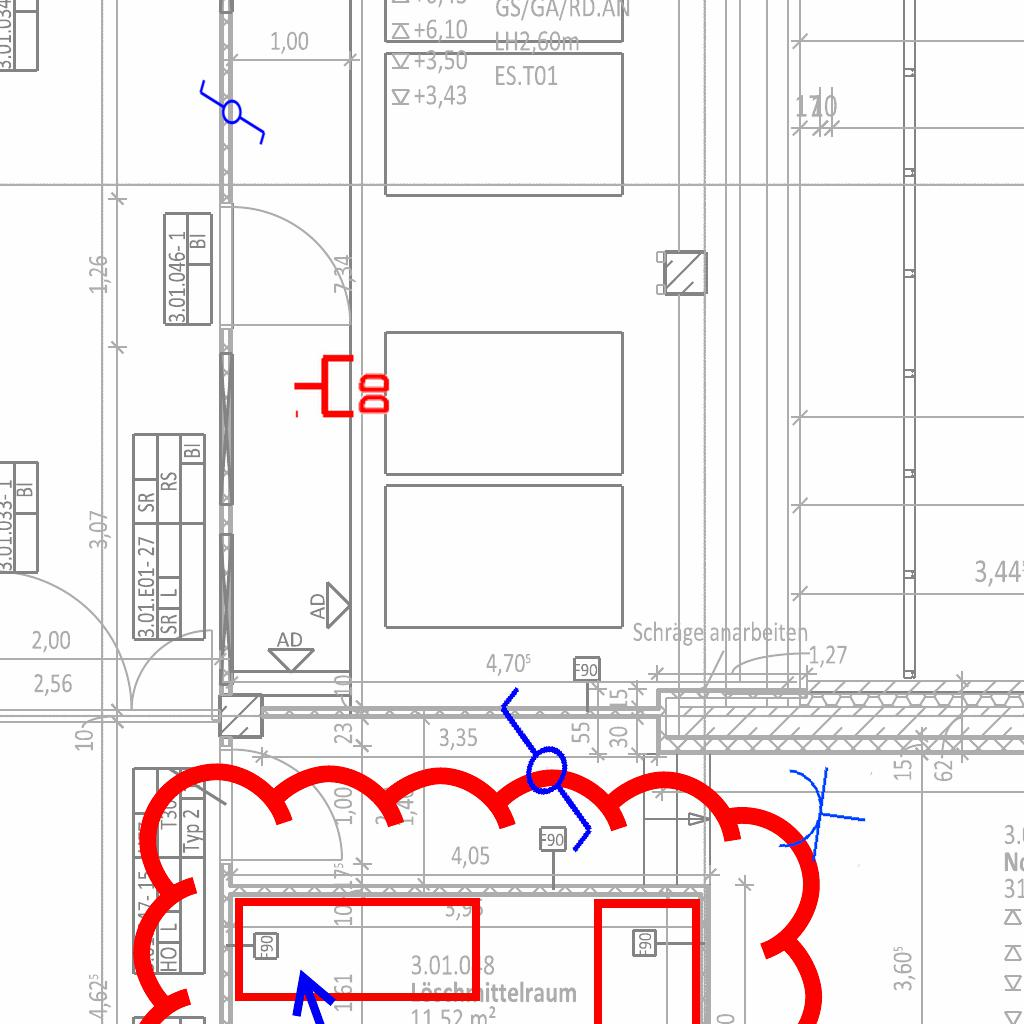Datenanschluss_zweifach: (291, 350, 394, 419)
Schukosteckdose_einfach: (772, 757, 874, 870)
Wechselschalter: (445, 677, 638, 877), (197, 69, 269, 147)
